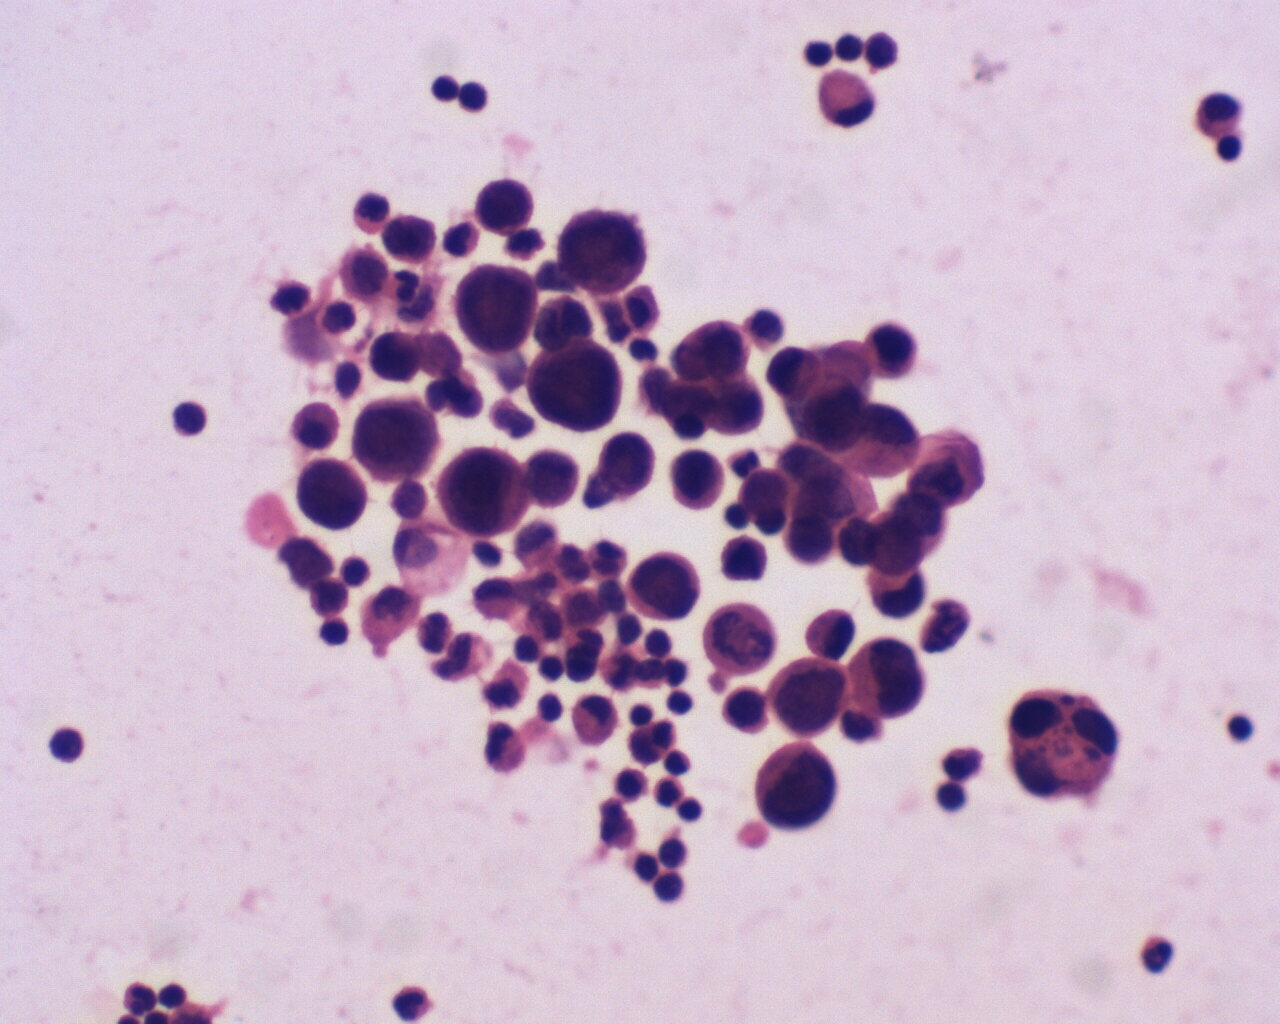ab: (525, 335, 625, 433), (435, 445, 528, 544), (453, 260, 541, 359), (554, 206, 648, 296), (755, 740, 842, 835), (350, 394, 441, 483), (770, 653, 854, 742), (850, 635, 928, 723), (626, 546, 706, 626), (295, 456, 368, 532), (475, 173, 543, 246), (595, 427, 658, 496), (762, 343, 830, 405), (517, 443, 579, 511), (863, 316, 923, 382), (669, 445, 726, 513), (715, 530, 772, 588), (379, 210, 435, 264), (719, 688, 774, 740)
histo: (815, 64, 879, 130)
lymph: (44, 722, 88, 769), (169, 395, 214, 440), (456, 76, 494, 121), (650, 866, 686, 908), (1223, 712, 1258, 748), (1211, 133, 1250, 163)
neutro: (1133, 928, 1180, 980)
